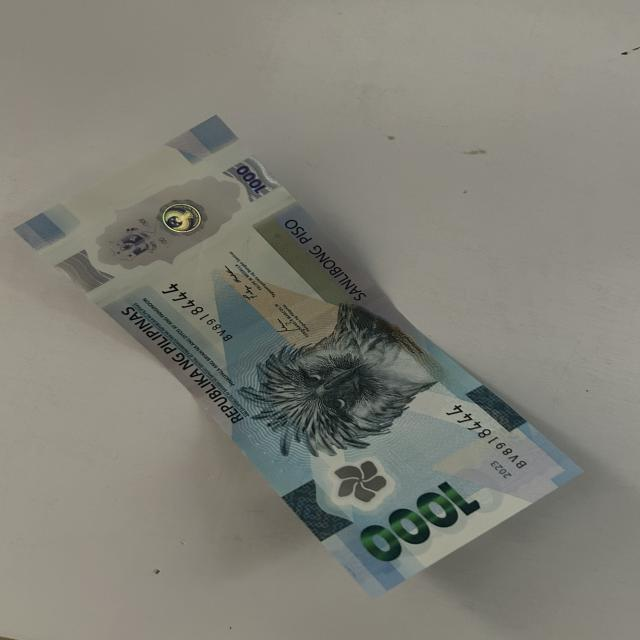clear_window: (64, 175, 250, 267)
eagle: (254, 342, 452, 451)
sampaguita: (327, 459, 394, 503)
security_thread: (181, 285, 386, 403)
serial_number: (156, 276, 242, 347)
value: (339, 476, 487, 559)
